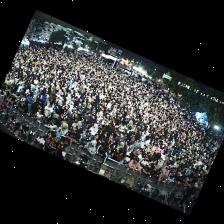person: (95, 144, 108, 168), (41, 102, 52, 123), (66, 127, 79, 142), (127, 158, 140, 171), (45, 118, 59, 130), (52, 100, 61, 118), (154, 154, 164, 170), (140, 163, 152, 176), (83, 141, 95, 154), (60, 115, 71, 129), (107, 138, 116, 154), (56, 122, 67, 135), (78, 128, 89, 140), (111, 148, 121, 161), (78, 135, 88, 147), (25, 91, 31, 111), (37, 88, 45, 103), (31, 110, 43, 120), (72, 121, 81, 134), (89, 124, 97, 138), (125, 151, 139, 159), (89, 134, 99, 145), (142, 151, 153, 161), (98, 133, 108, 144), (61, 104, 69, 117), (125, 136, 135, 146), (160, 165, 171, 174), (18, 101, 27, 112), (166, 172, 175, 183), (173, 175, 184, 184), (139, 155, 148, 166), (157, 173, 167, 182), (150, 167, 159, 177), (155, 144, 164, 153), (105, 123, 113, 133), (125, 144, 133, 154), (119, 157, 129, 165), (8, 93, 15, 104), (133, 139, 140, 150), (16, 82, 23, 92), (96, 111, 102, 122), (80, 118, 85, 131), (53, 149, 61, 157), (2, 91, 9, 100), (31, 91, 36, 102), (148, 160, 157, 166), (116, 142, 123, 149)
